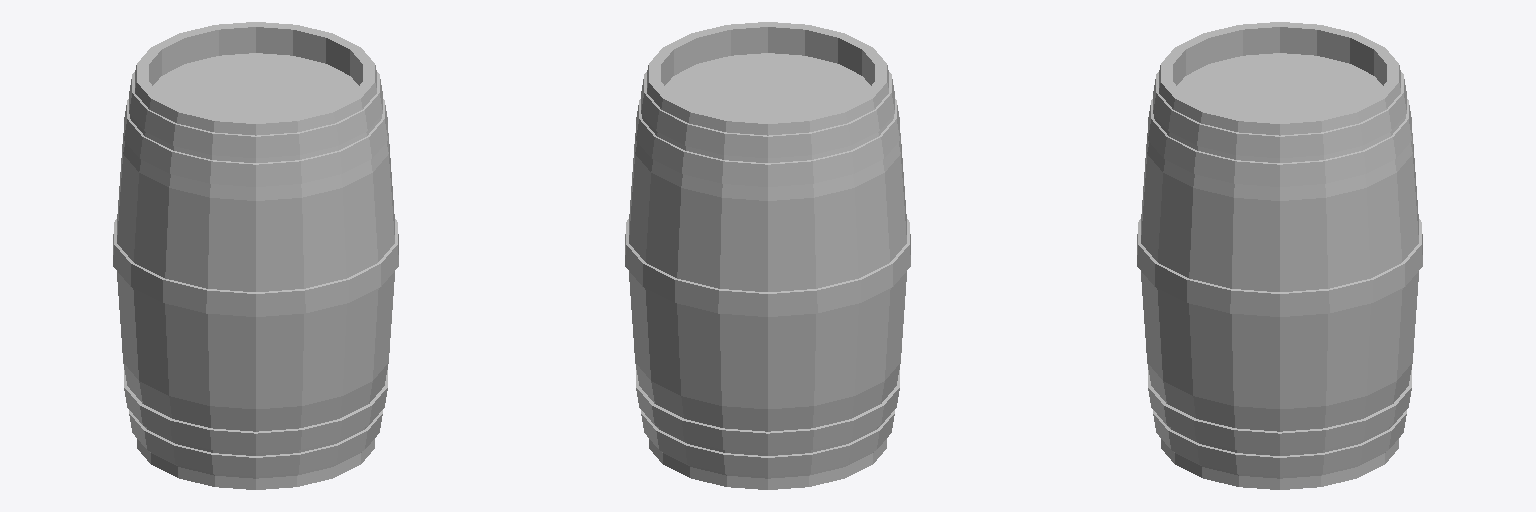
The model's file is Barrel.obj.
3 renders of one model, left to right at view 1: azimuth 30°, elevation 25°; view 2: azimuth 150°, elevation 25°; view 3: azimuth 270°, elevation 25°, orthographic.
Visible parts, largest first — view 1: Barrel; view 2: Barrel; view 3: Barrel.
Part boxes in pixels (bbox=[...]): Barrel: bbox=[113, 22, 398, 489]; Barrel: bbox=[625, 22, 910, 489]; Barrel: bbox=[1137, 22, 1422, 489].
Bounding box in the file's own units: 2.39 × 3.33 × 2.35.